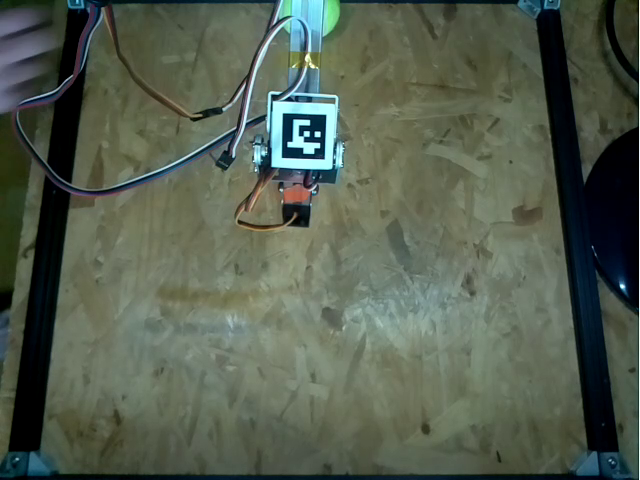tennis_ball: (281, 1, 340, 36)
